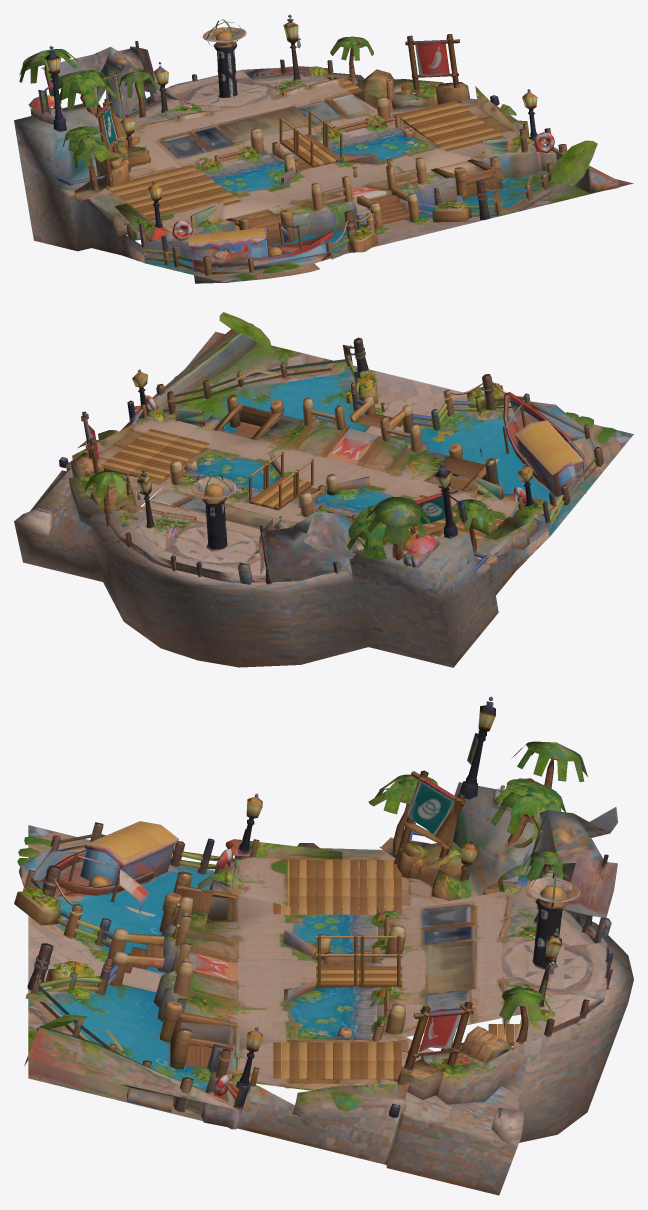
Rendered from kitchen_city.glb.
3 renders of one model, top to bottom at view 1: azimuth 30°, elevation 25°; view 2: azimuth 150°, elevation 25°; view 3: azimuth 270°, elevation 25°, orthographic. The views are drawn at different scales.
Visible parts, largest first — view 1: land, boat_0, tree_0, bridge_1, tree_1, bridge_0, tree_2, tree_3, deck_9, deck_4, deck_5, deck_10 (+9 smaller); view 2: land, boat_0, tree_1, tree_0, bridge_0, tree_3, tree_2, bridge_1, deck_5, deck_10, deck_14, deck_15; view 3: land, boat_0, tree_1, tree_3, tree_0, bridge_0, bridge_1, tree_2, deck_10, deck_5, deck_9, deck_4 (+7 smaller).
Boxes of the visible parts, bbox=[...] form: land: bbox=[14, 14, 633, 282]; boat_0: bbox=[145, 222, 348, 283]; tree_0: bbox=[63, 126, 113, 190]; bridge_1: bbox=[295, 122, 343, 167]; tree_1: bbox=[19, 49, 78, 111]; bridge_0: bbox=[278, 110, 325, 154]; tree_2: bbox=[330, 36, 373, 84]; tree_3: bbox=[51, 70, 111, 98]; deck_9: bbox=[413, 120, 458, 139]; deck_4: bbox=[398, 108, 441, 128]; deck_5: bbox=[426, 100, 471, 120]; deck_10: bbox=[443, 113, 487, 132]; land: bbox=[14, 312, 633, 667]; boat_0: bbox=[480, 392, 615, 531]; tree_1: bbox=[366, 497, 429, 560]; tree_0: bbox=[451, 499, 497, 552]; bridge_0: bbox=[248, 464, 296, 510]; tree_3: bbox=[348, 504, 412, 551]; tree_2: bbox=[84, 470, 129, 513]; bridge_1: bbox=[266, 451, 314, 497]; deck_5: bbox=[102, 454, 145, 474]; deck_10: bbox=[116, 441, 162, 461]; deck_14: bbox=[163, 436, 209, 456]; deck_15: bbox=[133, 429, 179, 448]; land: bbox=[14, 696, 633, 1195]; boat_0: bbox=[24, 821, 234, 912]; tree_1: bbox=[511, 741, 587, 824]; tree_3: bbox=[492, 779, 565, 824]; tree_0: bbox=[368, 774, 437, 854]; bridge_0: bbox=[359, 935, 402, 987]; bridge_1: bbox=[316, 935, 358, 987]; tree_2: bbox=[499, 987, 550, 1044]; deck_10: bbox=[316, 1060, 358, 1079]; deck_5: bbox=[359, 1060, 401, 1081]; deck_9: bbox=[316, 1042, 358, 1060]; deck_4: bbox=[359, 1042, 401, 1060].
Bounding box in the file's own units: 14.51 × 6.91 × 14.37.
3 materials, 1 textured.
